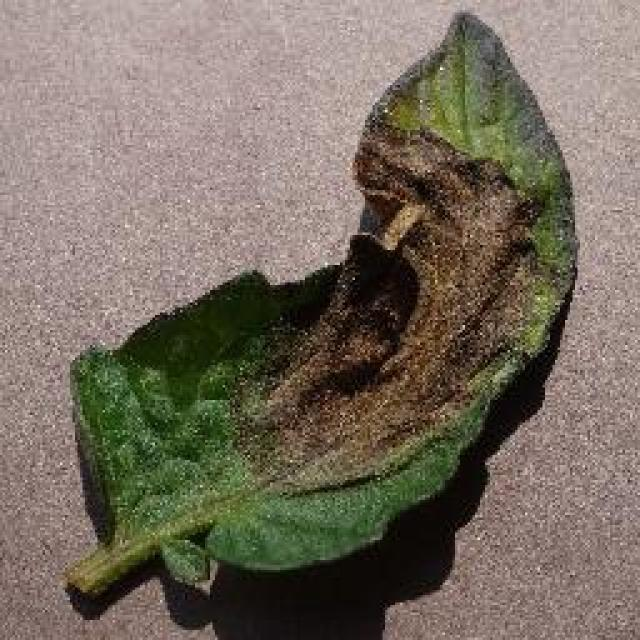Tomato Late Blight: (263, 55, 537, 485)
